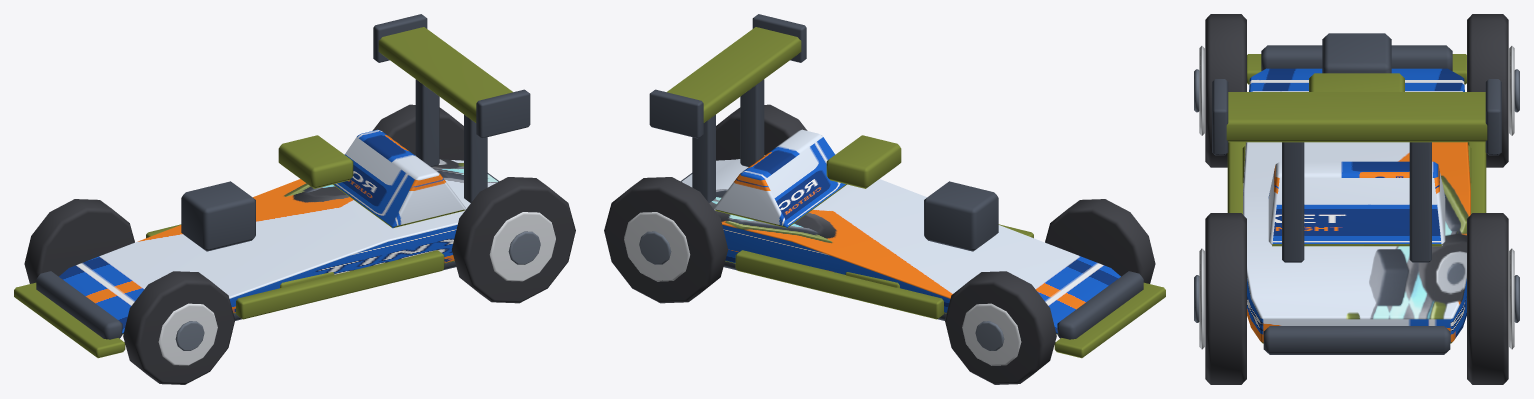
3 views of the same model, side by side, from view 1: azimuth 30°, elevation 25°; view 2: azimuth 150°, elevation 25°; view 3: azimuth 270°, elevation 25° (orthographic). The views are drawn at different scales.
Visible parts, largest first — view 1: TC-04_connected_shell, Tire.002, TC-04_cabin, Tire, Tire.001, rear airfoil, custom side guard, engine scoop, custom equipment, Rim.002, custom chin, front bumper (+8 smaller); view 2: TC-04_connected_shell, Tire.003, TC-04_cabin, Tire.001, Tire, rear airfoil, custom side guard.001, engine scoop, custom equipment, Rim.003, custom chin, front bumper (+8 smaller); view 3: TC-04_connected_shell, rear airfoil, TC-04_cabin, Tire.002, Tire.003, rear bumper, Tire, Tire.001, front bumper, engine scoop, wing support, wing support.001 (+10 smaller).
Boxes of the visible parts, x1,y1,x2,y2 form: TC-04_connected_shell: [59, 155, 497, 334]; Tire.002: [451, 177, 575, 303]; TC-04_cabin: [333, 129, 465, 228]; Tire: [123, 271, 234, 384]; Tire.001: [24, 199, 134, 283]; rear airfoil: [378, 27, 512, 122]; custom side guard: [236, 250, 444, 319]; engine scoop: [181, 181, 255, 251]; custom equipment: [278, 135, 353, 188]; Rim.002: [489, 212, 555, 281]; custom chin: [14, 282, 125, 358]; front bumper: [36, 271, 122, 339]; TC-04_connected_shell: [682, 155, 1120, 334]; Tire.003: [604, 177, 728, 303]; TC-04_cabin: [714, 129, 846, 228]; Tire.001: [945, 271, 1056, 384]; Tire: [1045, 199, 1155, 283]; rear airfoil: [667, 27, 801, 122]; custom side guard.001: [735, 250, 943, 319]; engine scoop: [924, 181, 998, 251]; custom equipment: [826, 135, 901, 188]; Rim.003: [624, 212, 690, 281]; custom chin: [1054, 282, 1165, 358]; front bumper: [1057, 271, 1143, 339]; TC-04_connected_shell: [1243, 68, 1470, 343]; rear airfoil: [1226, 92, 1487, 142]; TC-04_cabin: [1268, 161, 1445, 246]; Tire.002: [1205, 213, 1246, 384]; Tire.003: [1467, 213, 1508, 384]; rear bumper: [1263, 326, 1450, 354]; Tire: [1205, 14, 1246, 167]; Tire.001: [1467, 14, 1508, 167]; front bumper: [1261, 45, 1452, 70]; engine scoop: [1322, 33, 1391, 73]; wing support: [1282, 142, 1304, 262]; wing support.001: [1409, 142, 1431, 262].
Bounding box in the file's own units: 444 × 189 × 203.
